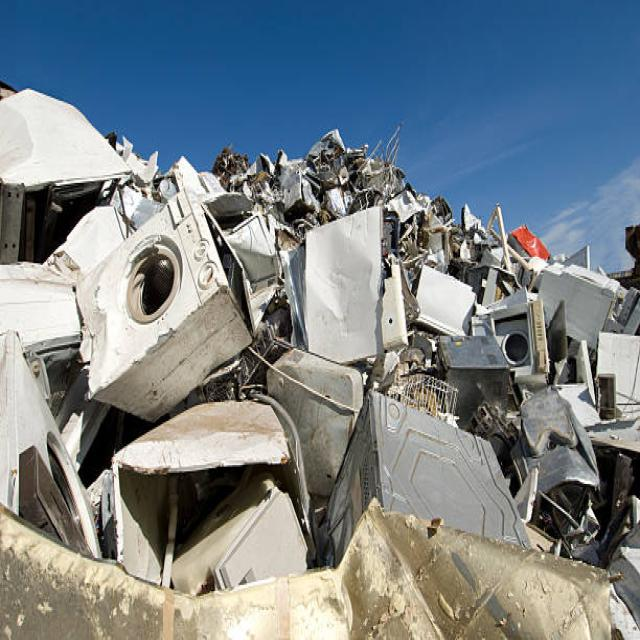metal: (273, 180, 601, 406), (56, 175, 258, 413), (367, 424, 570, 640)
